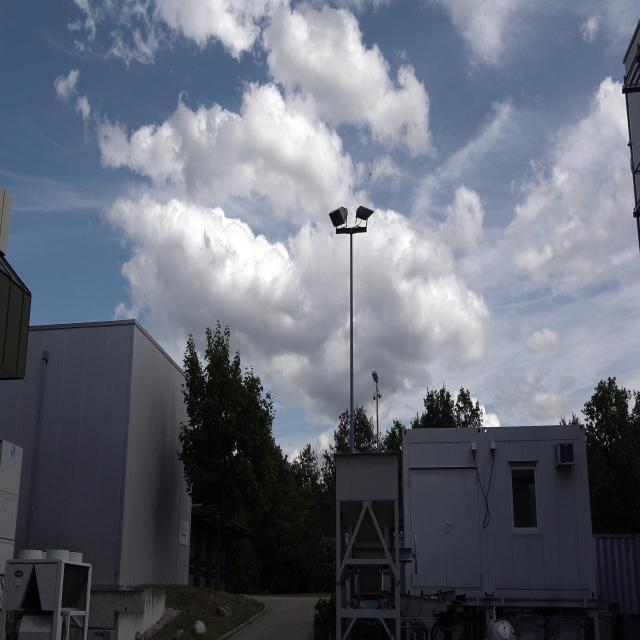drone: (366, 168, 376, 184)
